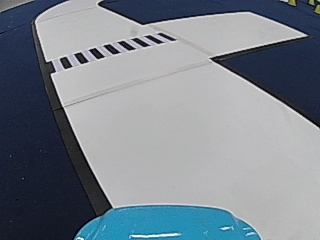CrossWalk: (52, 32, 174, 70)
